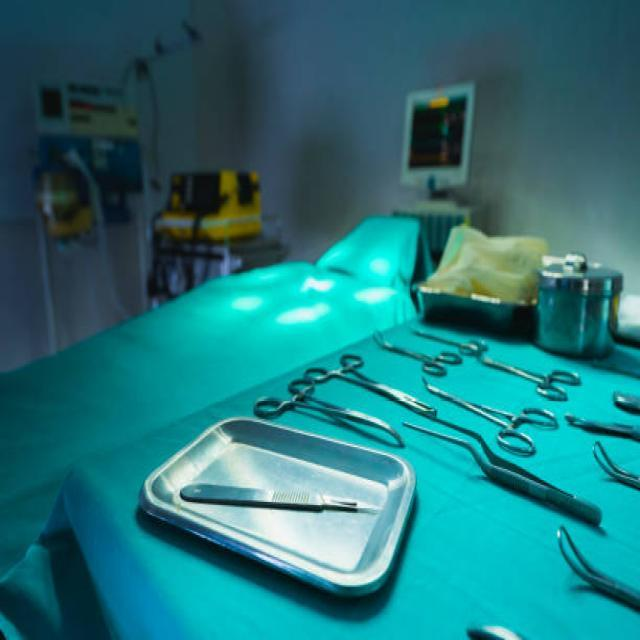Monitor: (397, 73, 478, 199)
bed: (0, 202, 437, 636)
tools_table: (43, 238, 640, 640)
